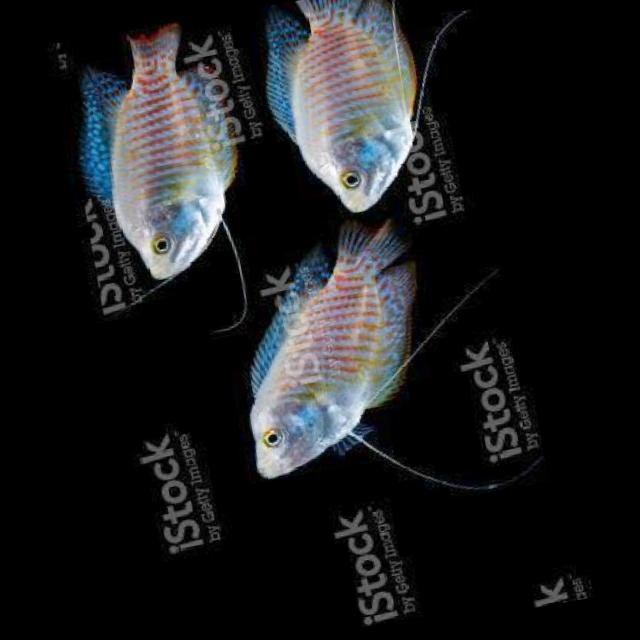Gourami: (211, 222, 438, 485), (58, 15, 262, 288), (244, 0, 451, 228)
